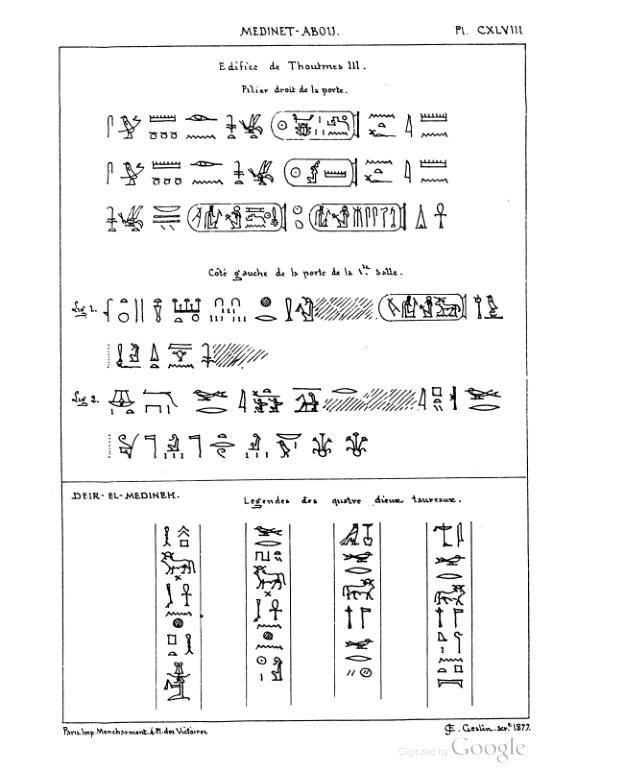circle: (186, 201, 290, 235), (374, 289, 473, 324), (307, 201, 410, 234), (269, 107, 363, 142), (277, 153, 361, 190)
